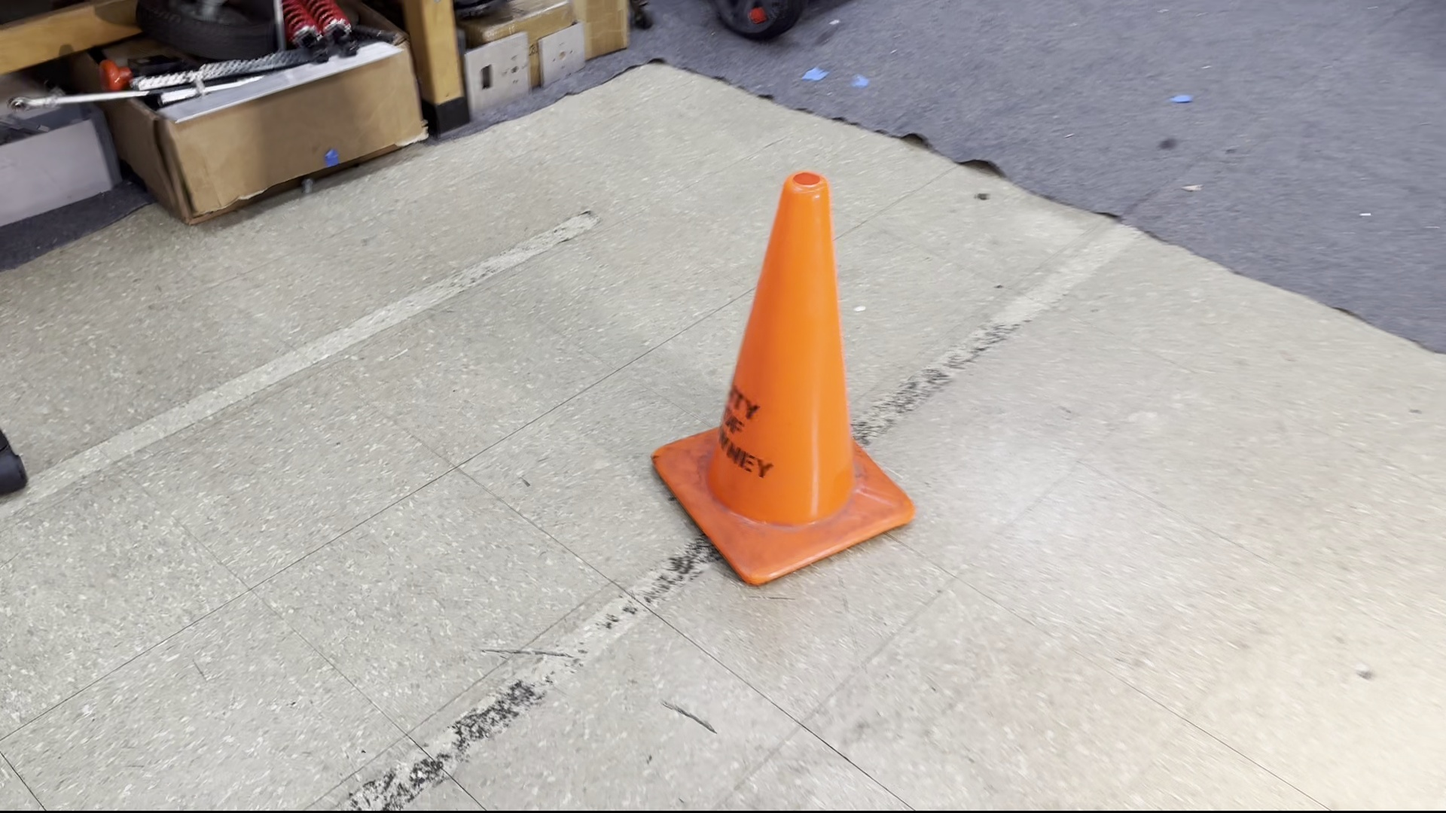traffic_cone: (650, 170, 917, 587)
